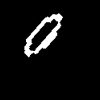chain: (25, 14, 62, 56)
